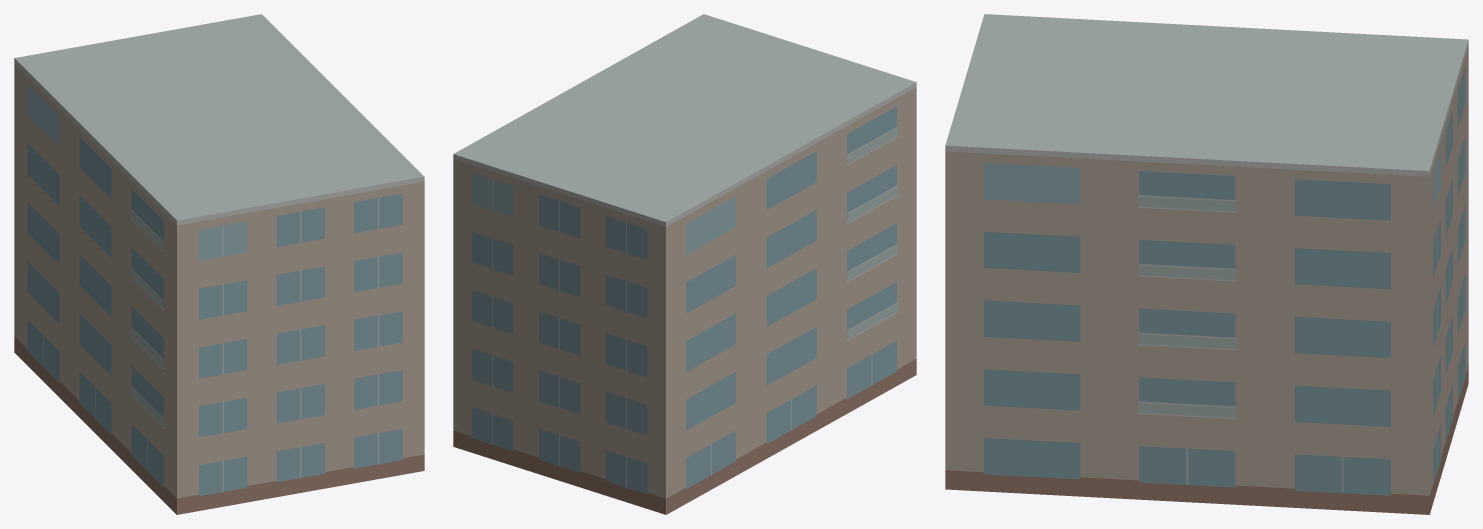
Rendered from survey-upis-32740133.glb.
3 renders of one model, left to right at view 1: azimuth 30°, elevation 25°; view 2: azimuth 150°, elevation 25°; view 3: azimuth 270°, elevation 25°, orthographic. The views are drawn at different scales.
Parts seen in each view (by area): view 1: survey-upis-32740133.tmp; view 2: survey-upis-32740133.tmp; view 3: survey-upis-32740133.tmp.
Part boxes in pixels (box(x1,y1,x2,y2)): survey-upis-32740133.tmp: box(14, 14, 424, 514); survey-upis-32740133.tmp: box(453, 14, 916, 514); survey-upis-32740133.tmp: box(945, 14, 1468, 514).
Bounding box in the file's own units: 14.31 × 14.6 × 20.15.
